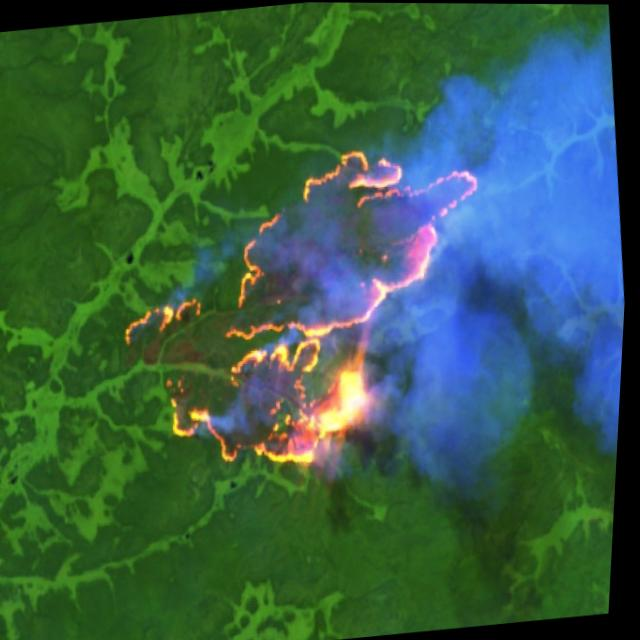fire: (95, 126, 514, 495)
